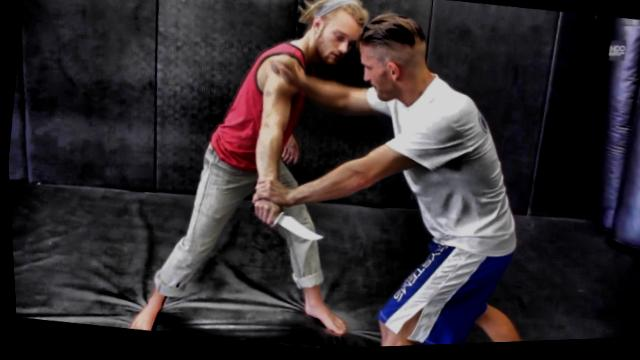knife: (243, 201, 331, 252)
